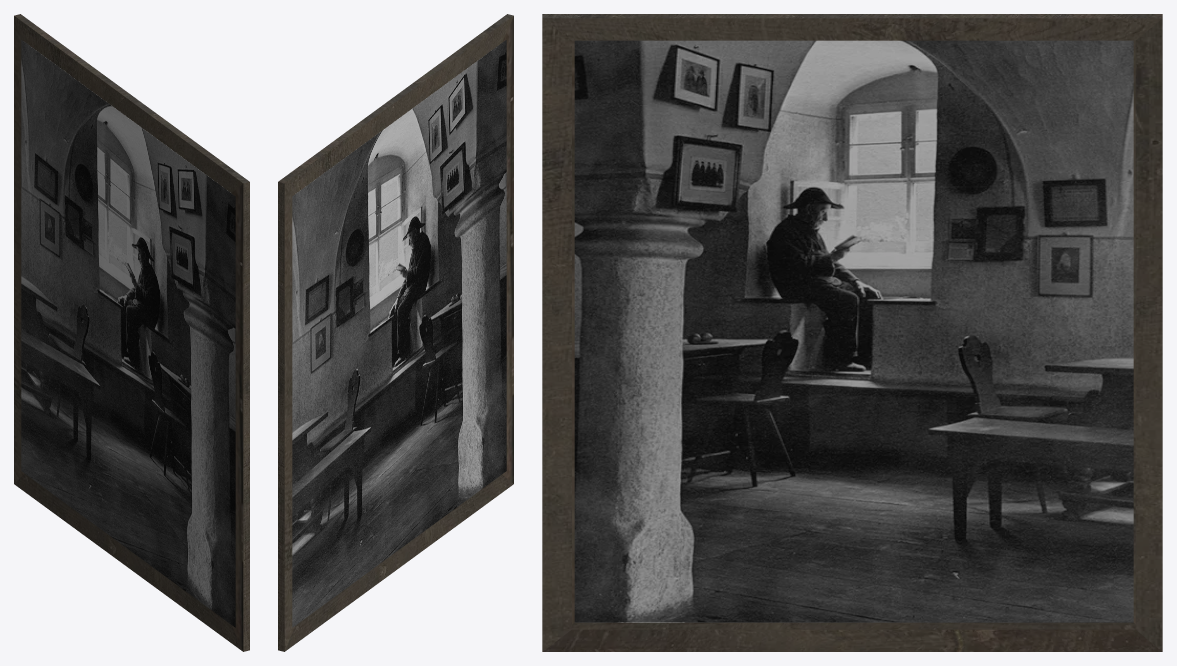
File: Bruederstube_Bild_1.glb
The picture shows the model from 3 angles, left to right: view 1: azimuth 30°, elevation 25°; view 2: azimuth 150°, elevation 25°; view 3: azimuth 270°, elevation 25°; orthographic projection. The views are drawn at different scales.
Visible parts, largest first — view 1: Cube.005; view 2: Cube.005; view 3: Cube.005.
Part boxes in pixels (x1,y1,x2,y2): Cube.005: (14, 14, 249, 651); Cube.005: (278, 14, 513, 651); Cube.005: (542, 14, 1162, 651).
Size of the model in its own units: 0.0668 by 4.45 by 3.95.
2 materials, 2 textured.
